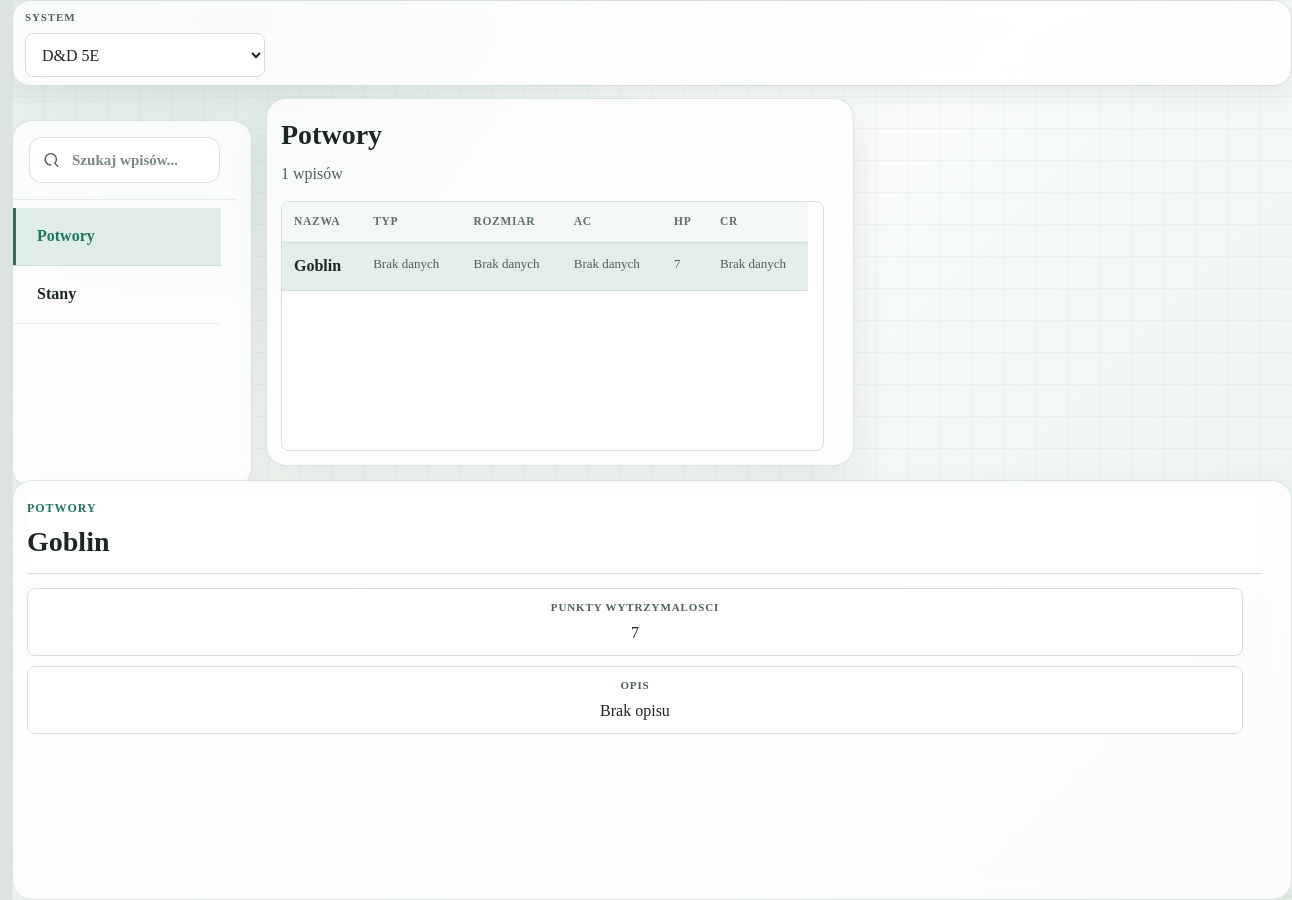
CompendiumPage v0.8.2 › renders Potwory and Stany when API returns specialized array payloads
Check: the text "Goblin" is shown, box [282, 243, 361, 291]
Click the button "Stany". click: (117, 295)
box: [13, 266, 221, 324]
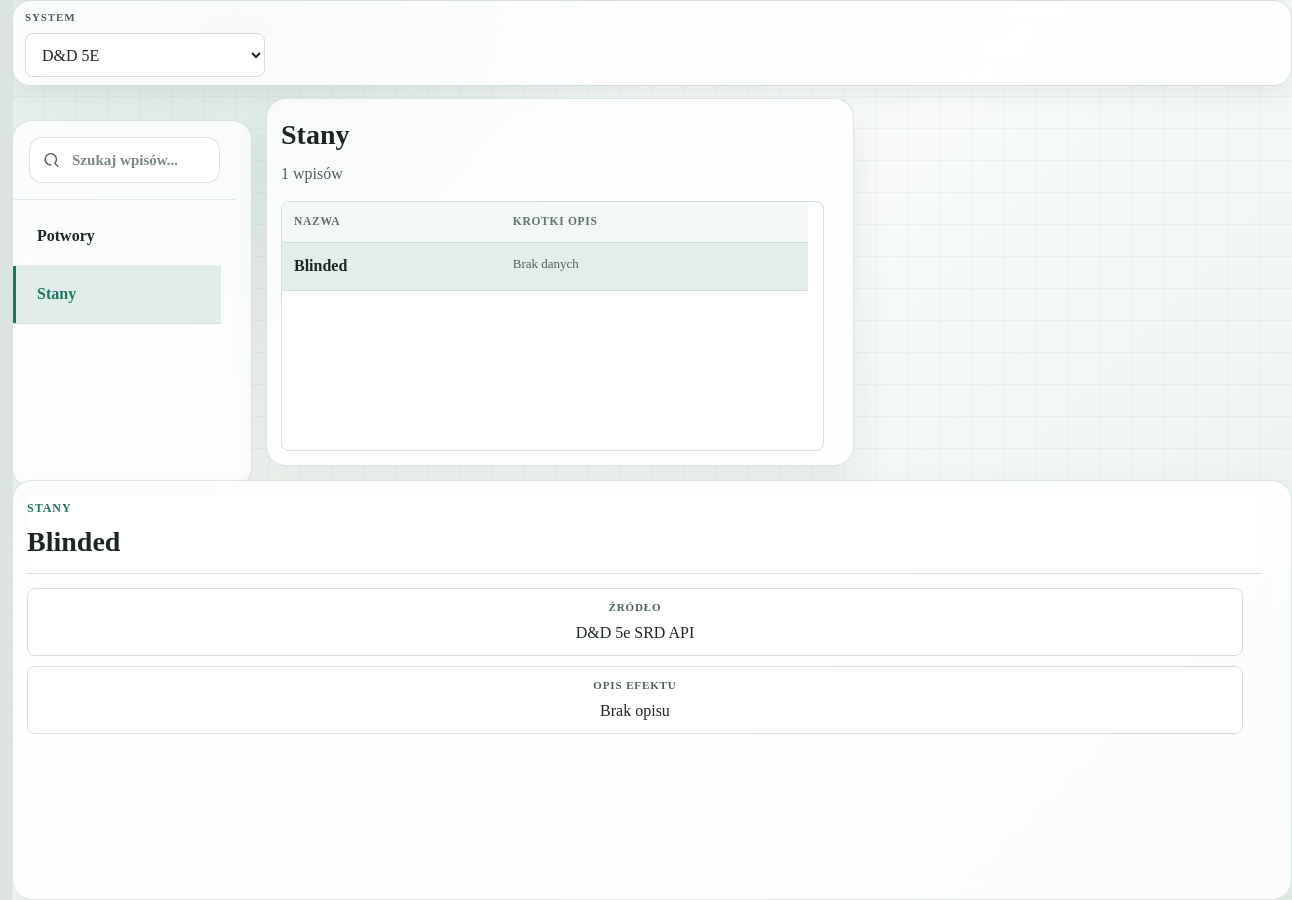
Check: the text "Blinded" is shown, box [282, 243, 501, 291]
